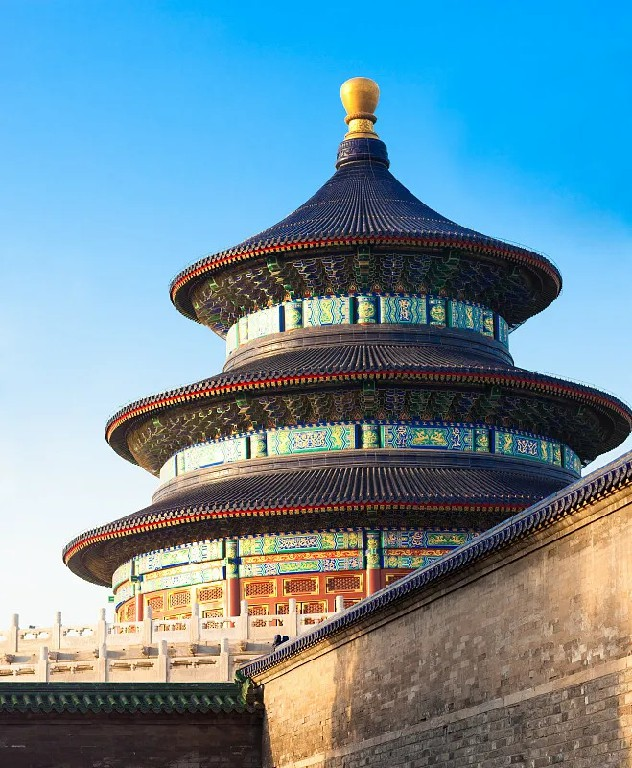Heaven: (60, 74, 632, 641)
